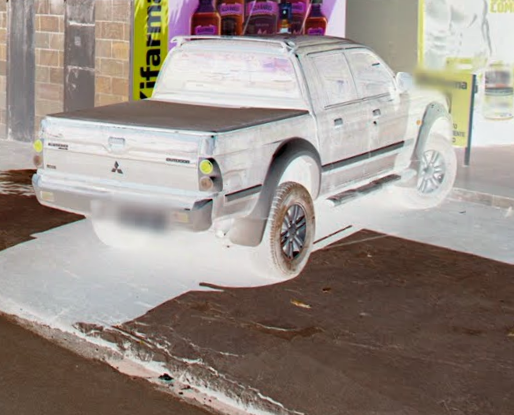car: (33, 33, 459, 278)
